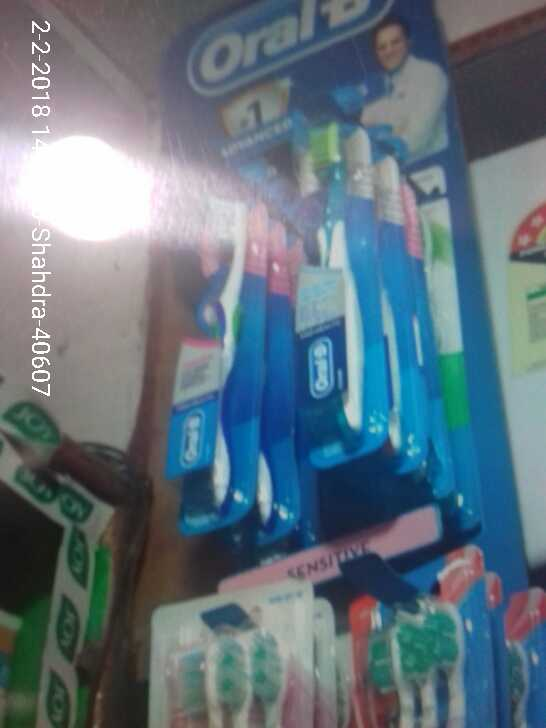oralb: (293, 120, 443, 467), (177, 199, 285, 543)
